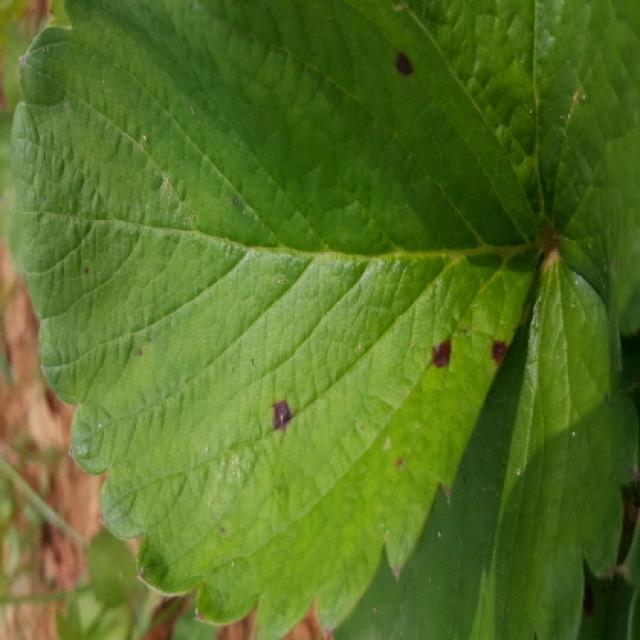Leaf Spot: (12, 0, 545, 638)
